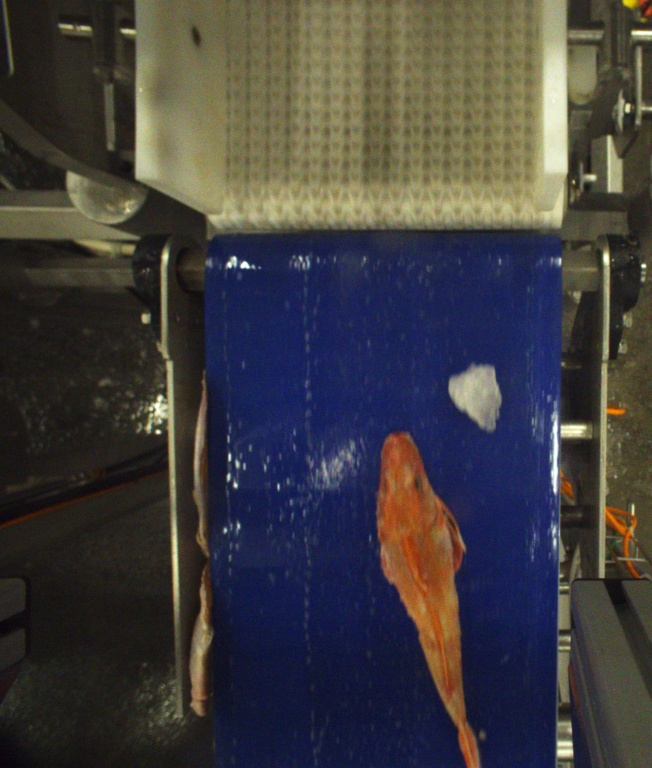GUU: (376, 430, 484, 768)
